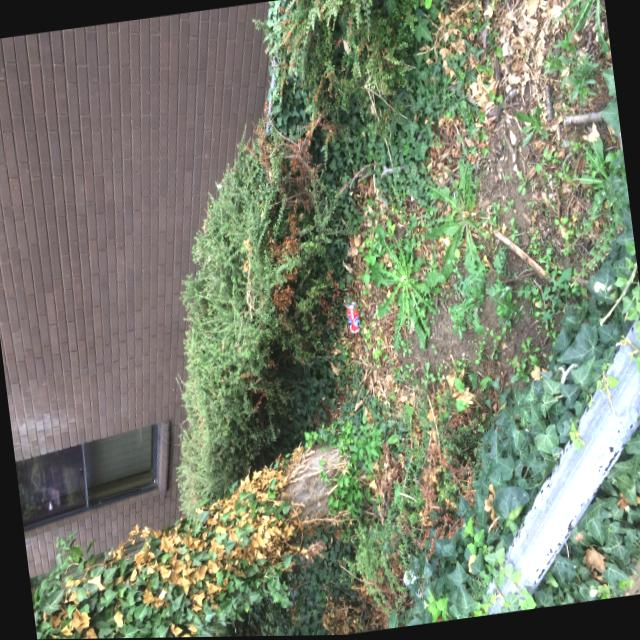Can-Metal: (344, 300, 364, 338)
